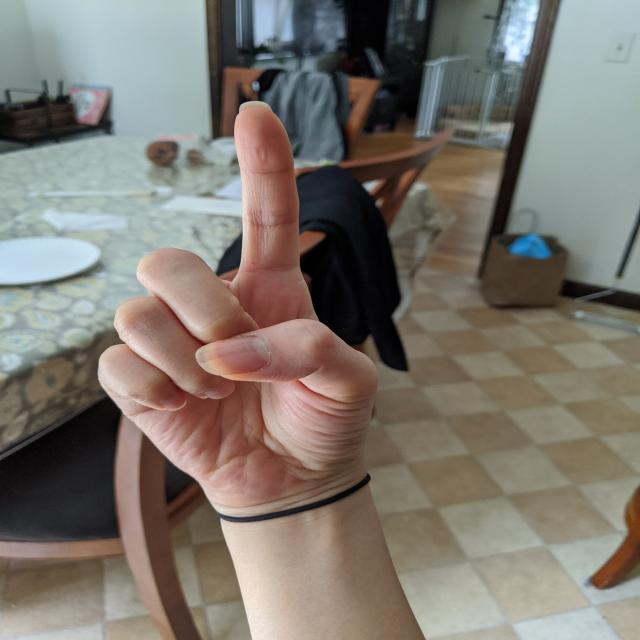D: (88, 97, 392, 520)
